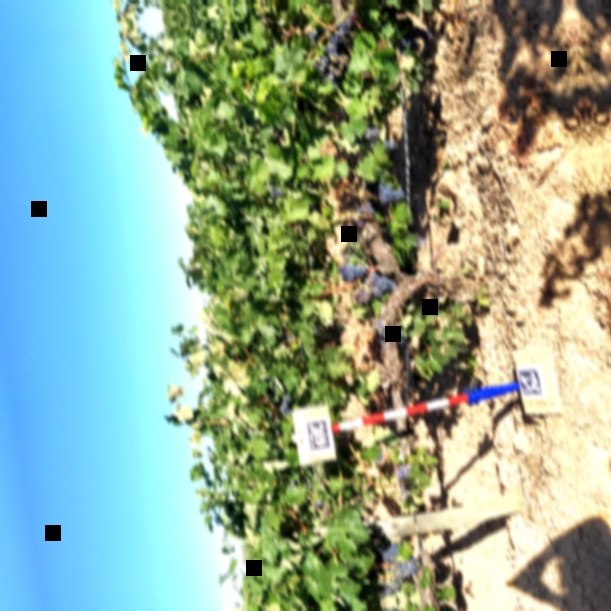QR: (304, 418, 330, 451), (515, 367, 540, 396)
